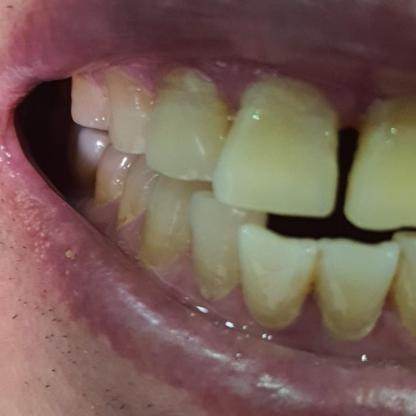Crowding: (197, 201, 287, 299)
Gap: (288, 96, 389, 210)
